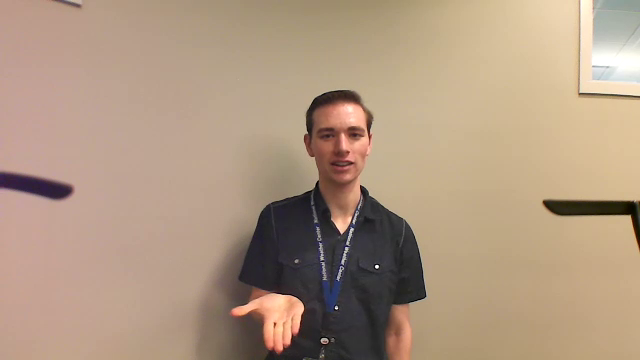land: (227, 289, 308, 358)
